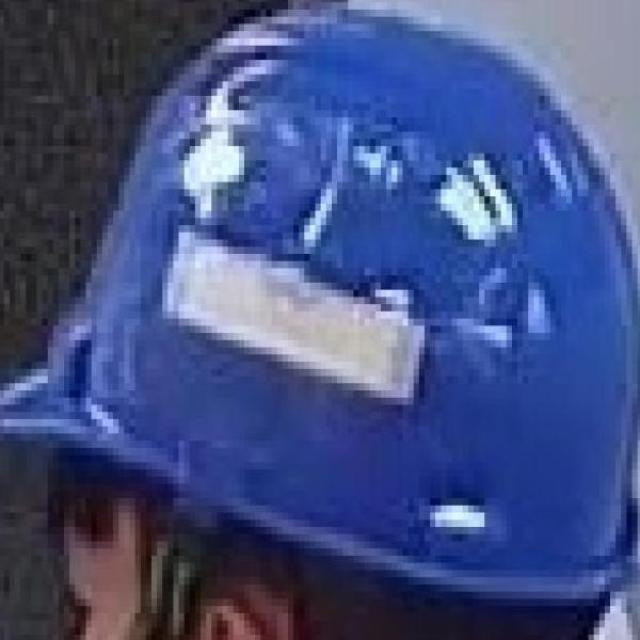blue helmet: (12, 15, 634, 595)
